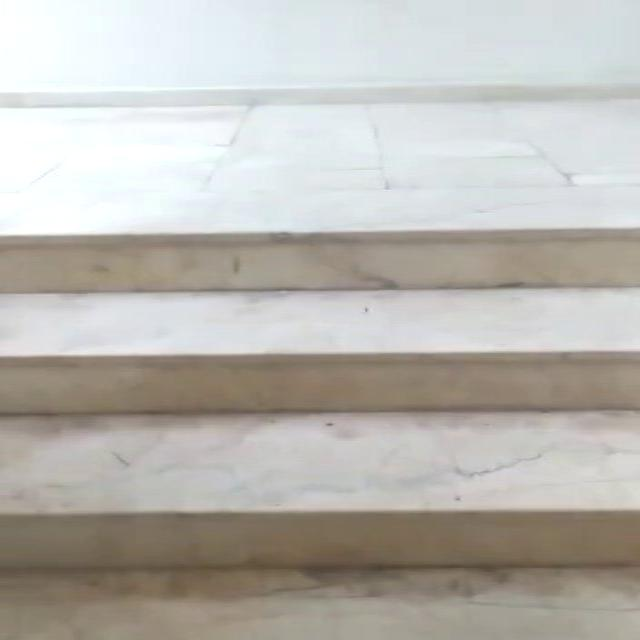stair: (4, 226, 640, 640)
